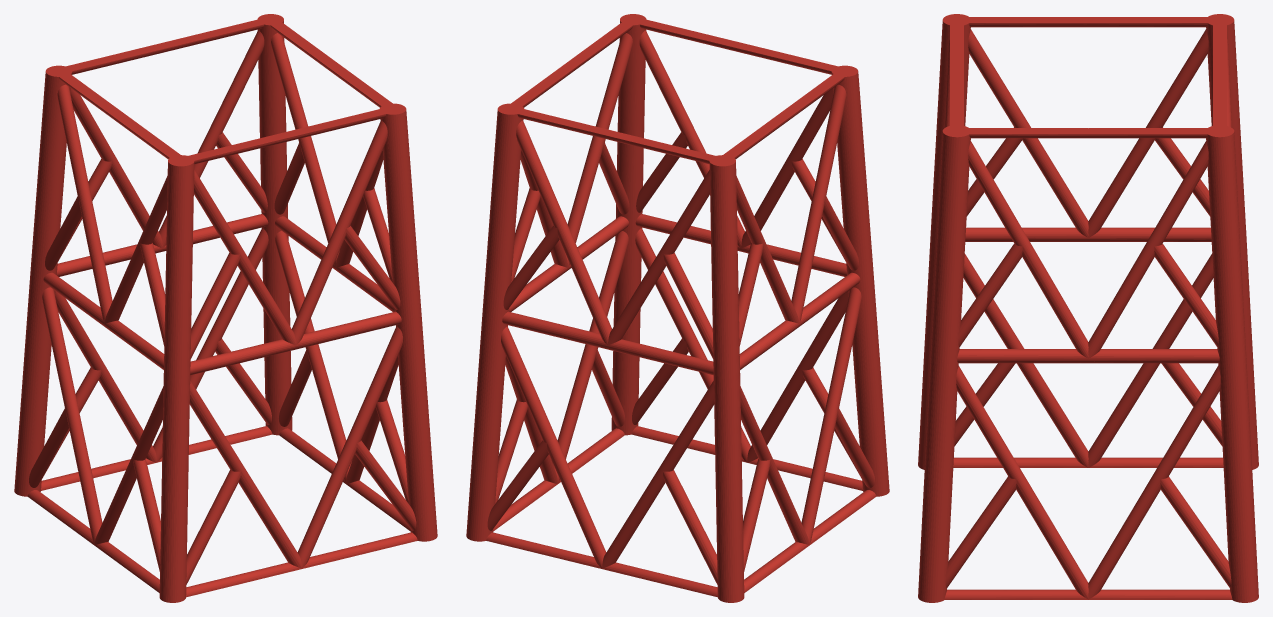
3 renders of one model, left to right at view 1: azimuth 30°, elevation 25°; view 2: azimuth 150°, elevation 25°; view 3: azimuth 270°, elevation 25°, orthographic. The views are drawn at different scales.
Parts seen in each view (by area): view 1: H19-H21; view 2: H19-H21; view 3: H19-H21.
Boxes of the visible parts, x1,y1,x2,y2 form: H19-H21: (14, 14, 437, 602); H19-H21: (466, 14, 889, 602); H19-H21: (918, 14, 1258, 602).
Bounding box in the file's own units: 11.94 × 17.6 × 11.94.
